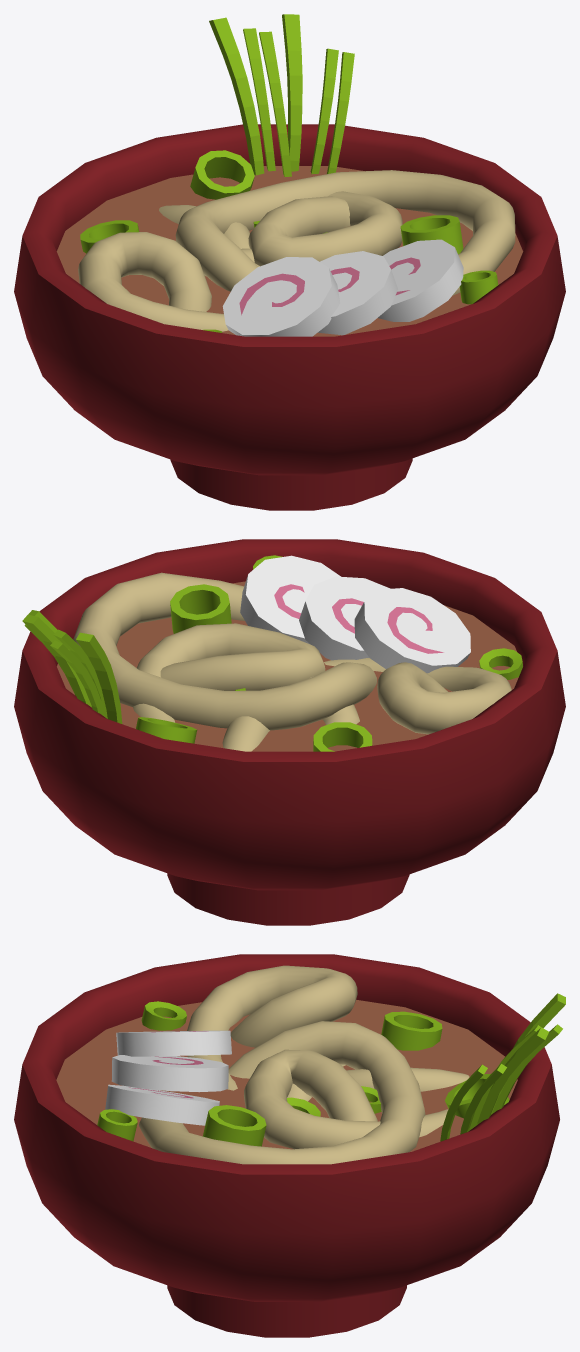
Rendered from Food_Udon.glb.
The picture shows the model from 3 angles, top to bottom: view 1: azimuth 30°, elevation 25°; view 2: azimuth 150°, elevation 25°; view 3: azimuth 270°, elevation 25°; orthographic projection.
Parts seen in each view (by area): view 1: Food_Udon; view 2: Food_Udon; view 3: Food_Udon.
Part boxes in pixels (<box>): Food_Udon: <box>14,14,565,510</box>; Food_Udon: <box>14,539,565,925</box>; Food_Udon: <box>14,954,565,1337</box>.
Size of the model in its own units: 0.973 by 0.6441 by 0.9986.
Materials: 1 (1 with a texture image).
